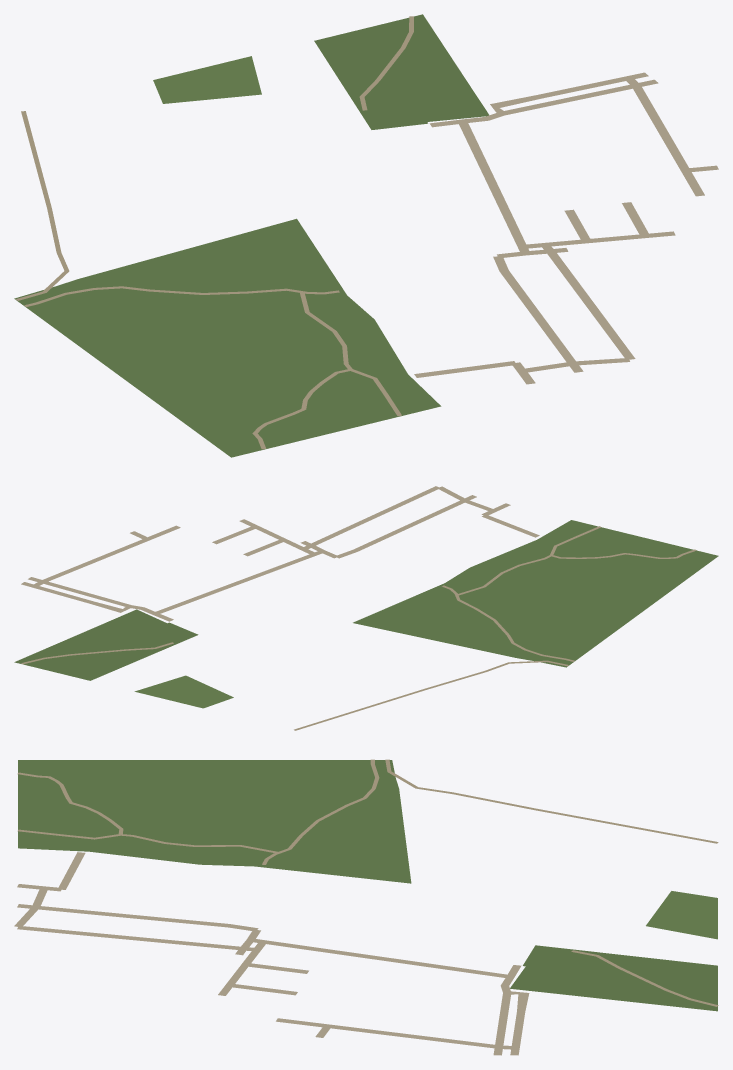
3 views of the same model, one above another, from view 1: azimuth 30°, elevation 25°; view 2: azimuth 150°, elevation 25°; view 3: azimuth 270°, elevation 25° (orthographic). The views are drawn at different scales.
Parts seen in each view (by area): view 1: ground; view 2: ground; view 3: ground.
Boxes of the visible parts, x1,y1,x2,y2 form: ground: (14, 14, 718, 457); ground: (14, 486, 718, 730); ground: (14, 759, 718, 1055).
Size of the model in its own units: 500 by 0.4 by 504.
